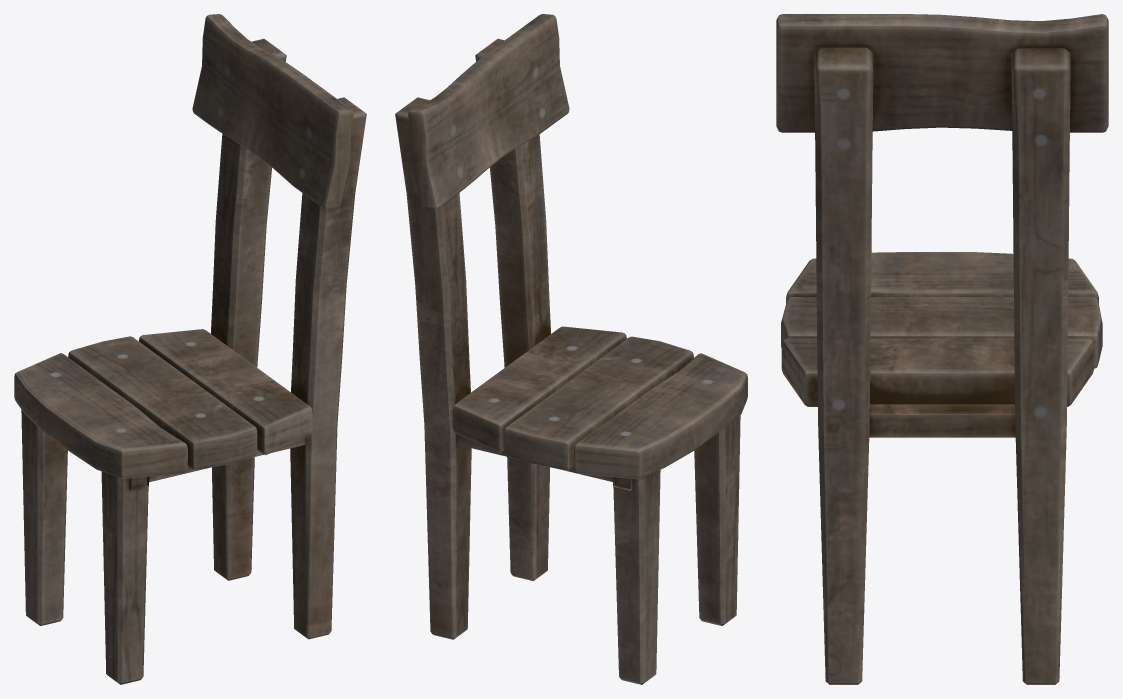
The model's file is SM_chair_01.fbx.
3 views of the same model, side by side, from view 1: azimuth 30°, elevation 25°; view 2: azimuth 150°, elevation 25°; view 3: azimuth 270°, elevation 25° (orthographic). The views are drawn at different scales.
Visible parts, largest first — view 1: SM_chair_01_LOD0; view 2: SM_chair_01_LOD0; view 3: SM_chair_01_LOD0.
Part boxes in pixels (x1,y1,x2,y2): SM_chair_01_LOD0: (14,14,366,684); SM_chair_01_LOD0: (395,14,747,684); SM_chair_01_LOD0: (776,14,1108,684).
Size of the model in its own units: 71.07 by 63.37 by 140.
1 material, 1 textured.
